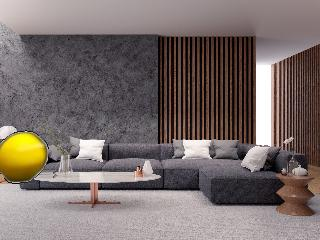lemon: (0, 134, 47, 181)
